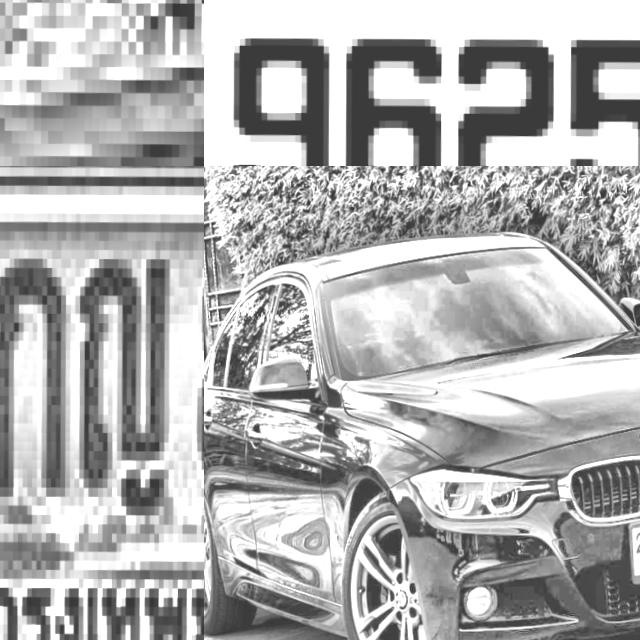license-plate: (0, 166, 204, 640), (204, 0, 640, 166), (0, 0, 204, 166)
